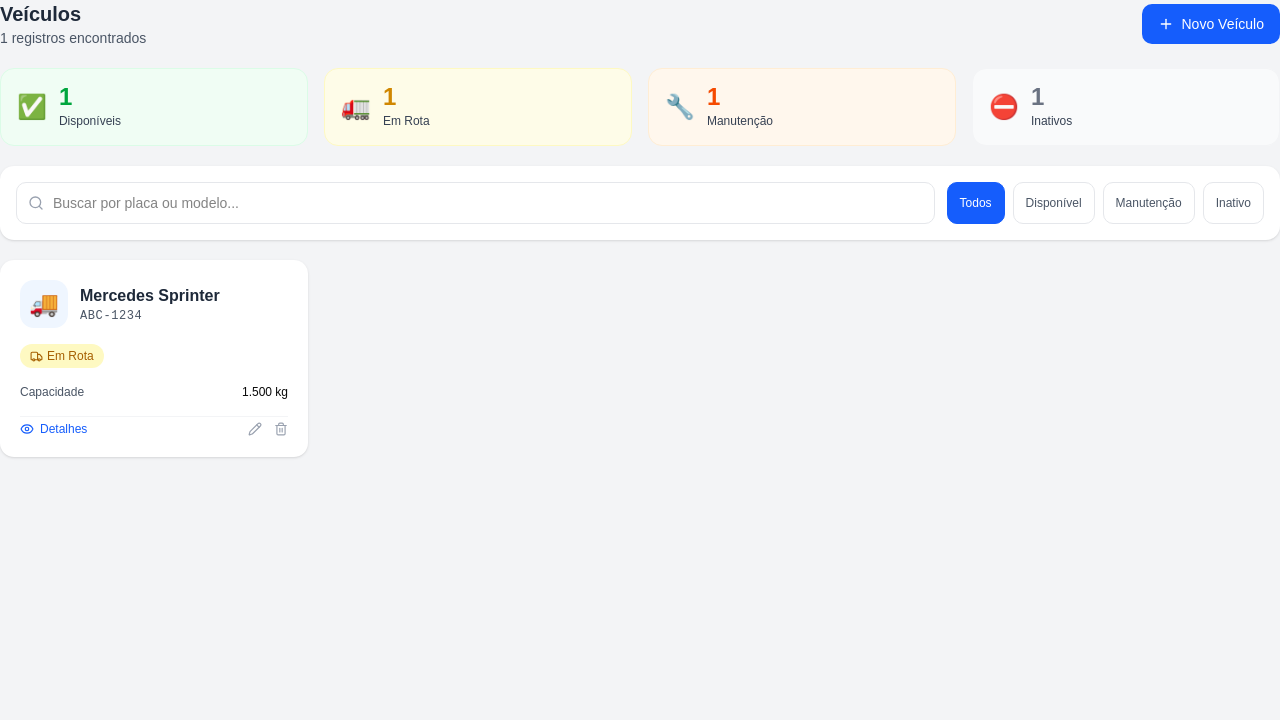
Test: Veiculos › edita um veículo existente com sucesso
Expected: the text "Mercedes Sprinter" is shown, [80,284,220,308]
Click the button named "Editar ABC-1234" at coordinates (255, 429), box [248,422,262,436]
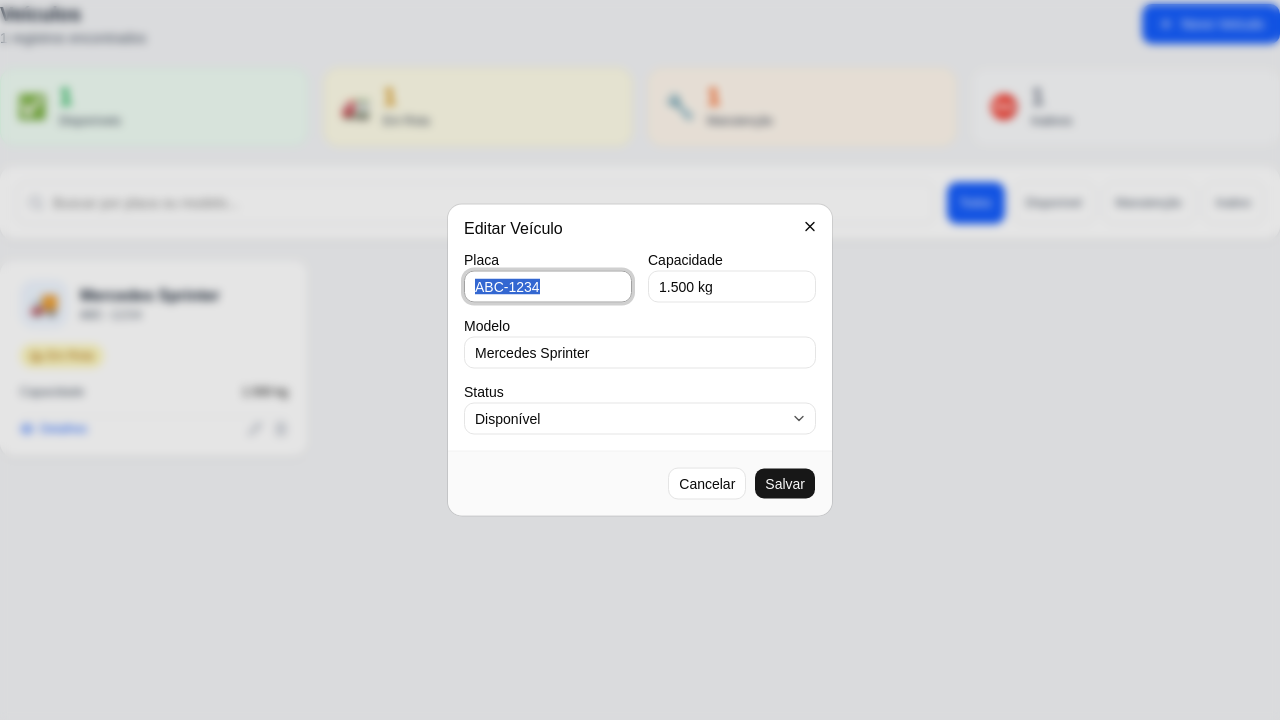
Expected: the dialog "Editar Veículo" is shown, [448,204,832,516]
Replace the text in the field showing "1.500 kg" with "2.000 kg" at coordinates (732, 286), box [648,270,816,302]
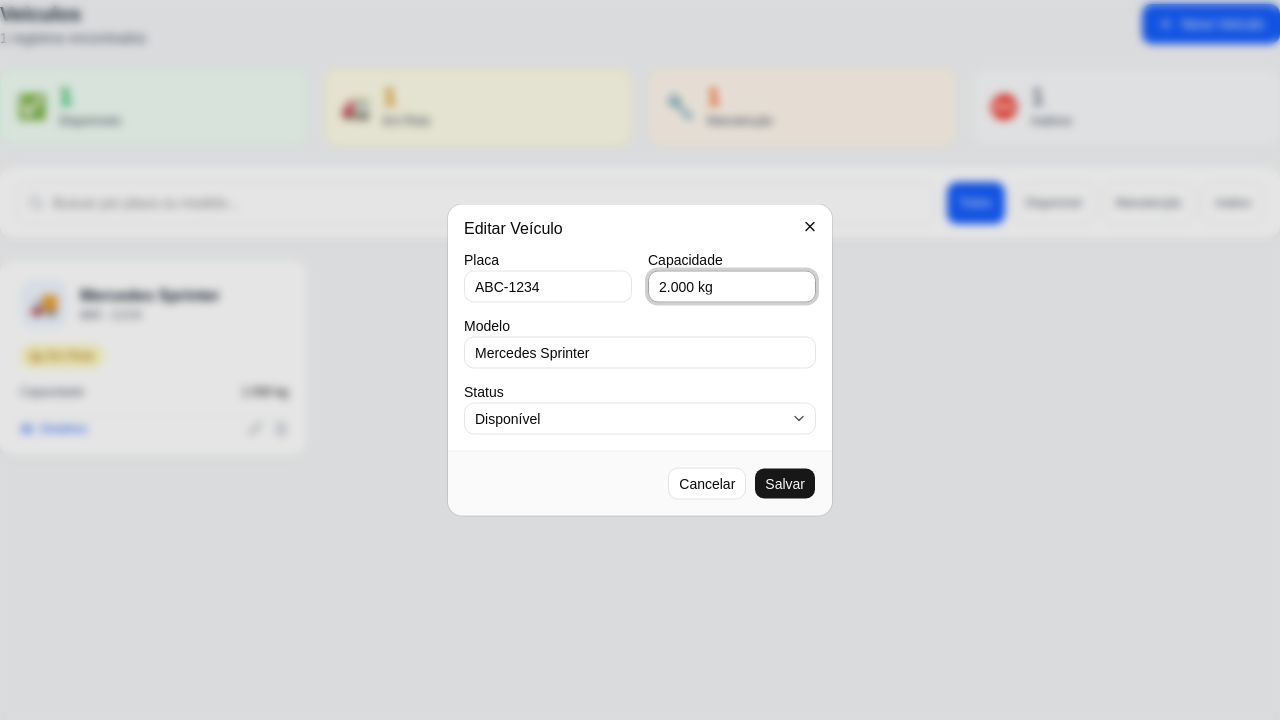
Click the button "Salvar" at coordinates (785, 484), box [754,468,816,500]
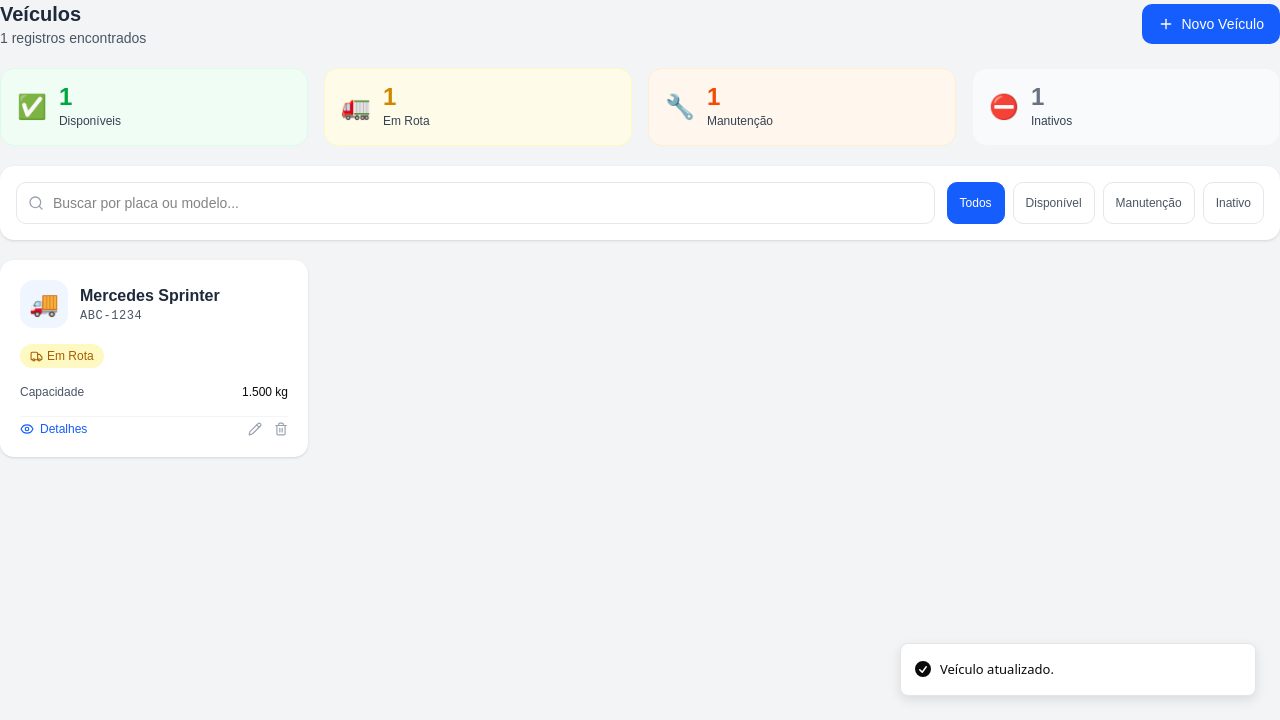
Expected: the text "Veículo atualizado." is shown, [940,660,1054,679]
